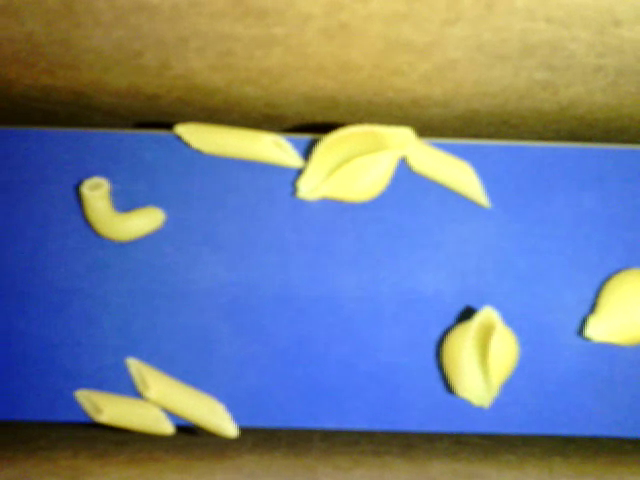elbow: (79, 175, 166, 243)
penne: (125, 356, 239, 438), (173, 121, 308, 169), (404, 138, 490, 206), (73, 390, 174, 434)
shell: (294, 122, 413, 204), (438, 303, 522, 410), (580, 267, 639, 345)
